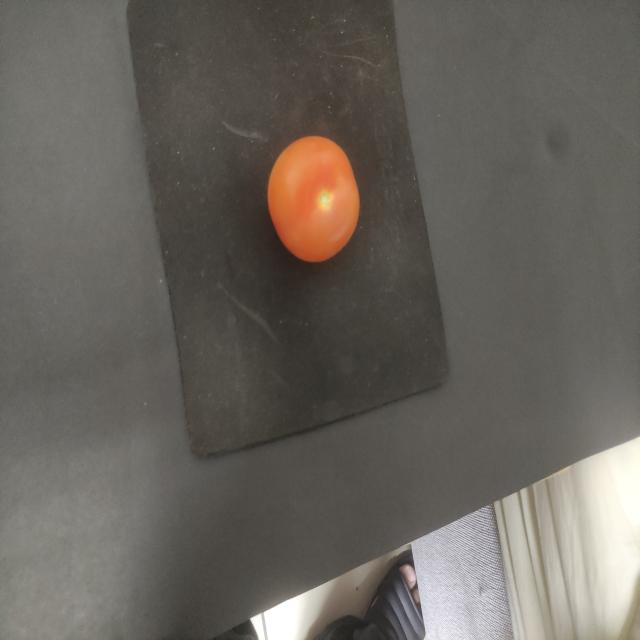sari: (258, 127, 362, 269)
